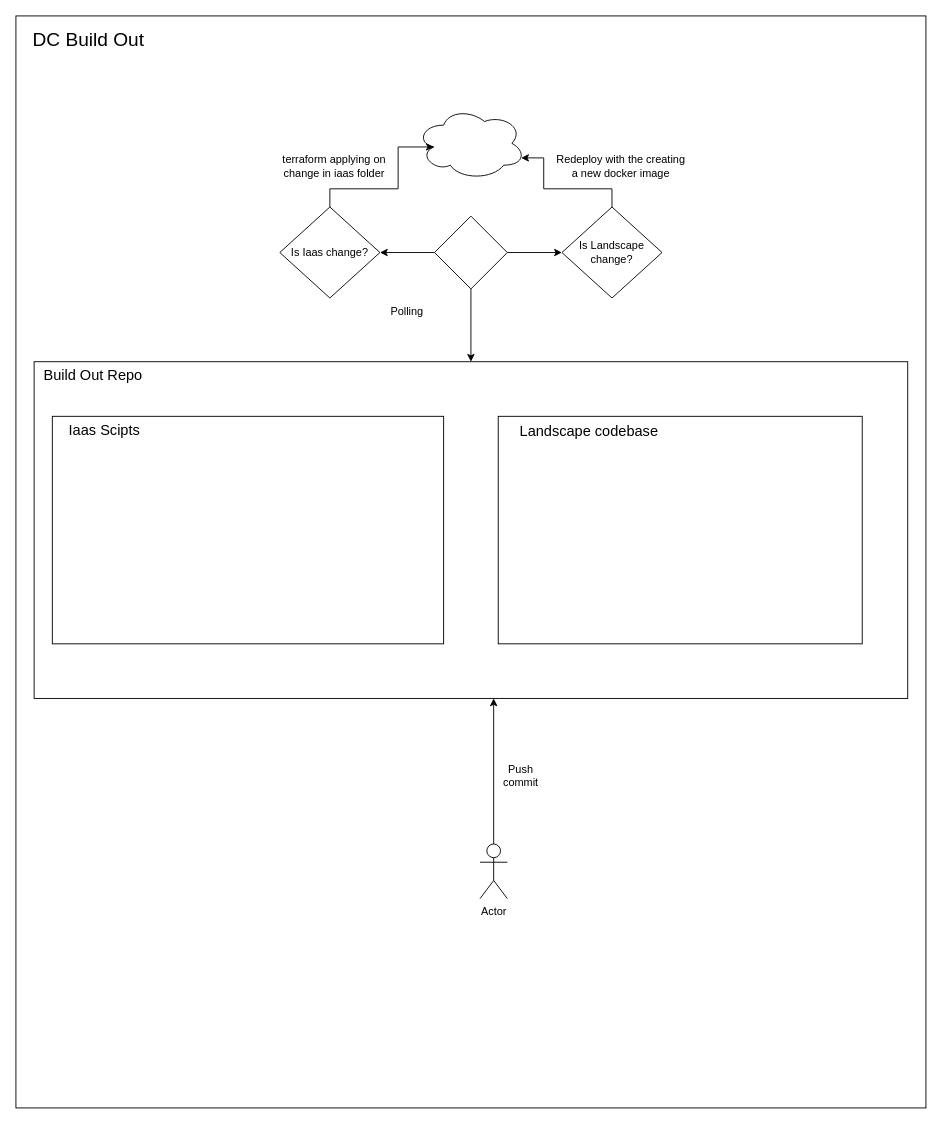
Some shapes in this 942 by 1124 pixel diagram are drawn without their labels. The box of each missing label's shape, as (x1, y1, x2, y2) in pixels:
GCP: (415, 106, 526, 180)
Jenkins Pipeline: (434, 215, 507, 289)
